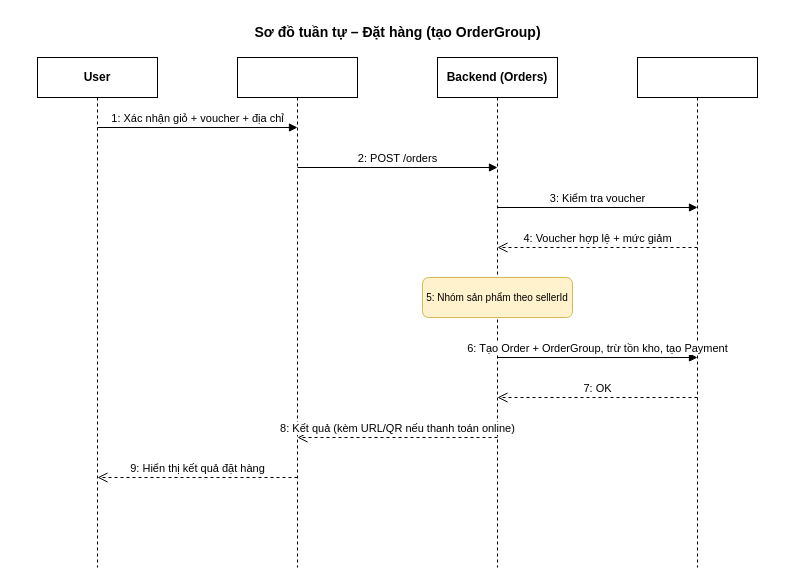
This 794x585 diagram has some shape labels left out. The box of each missing label's shape, as (x1, y1, x2, y2) in pixels:
Frontend: (236, 56, 358, 568)
MySQL: (636, 56, 758, 568)
